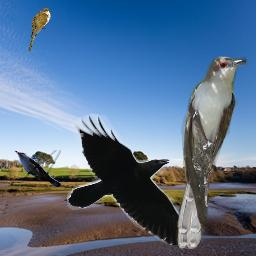Crow: (67, 113, 195, 245)
Cuckoo: (175, 54, 248, 249), (14, 150, 61, 187), (28, 8, 51, 52)
